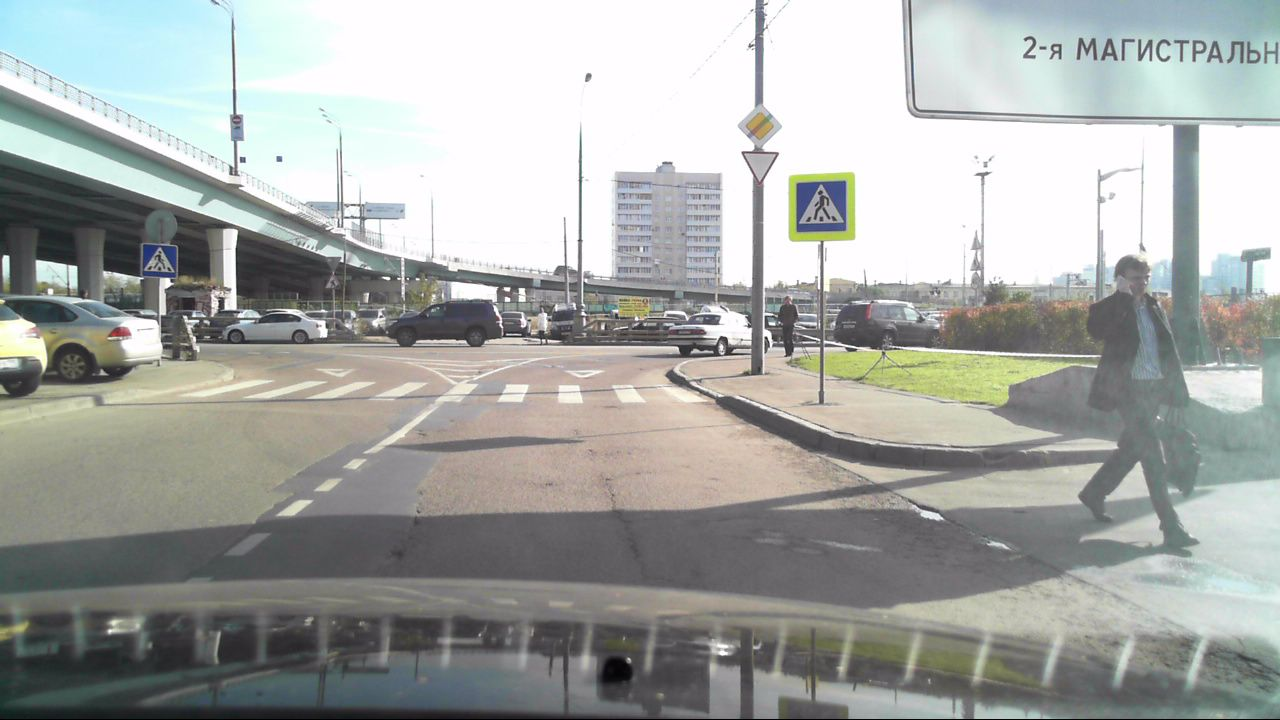main road: (738, 101, 783, 151)
